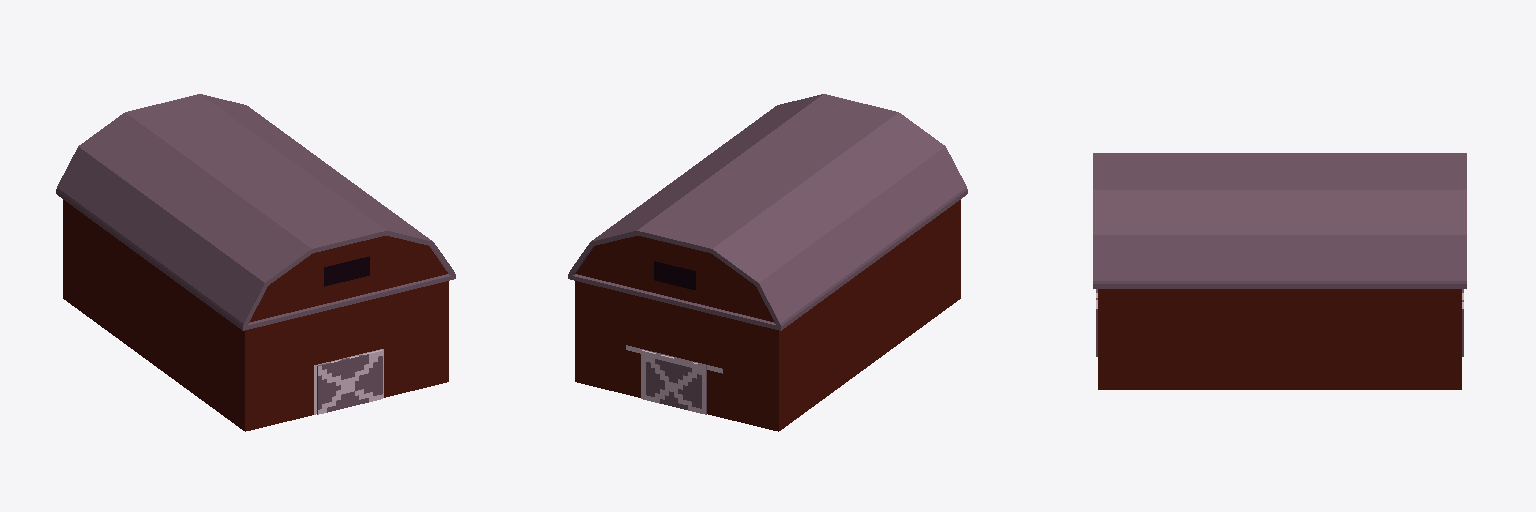
The picture shows the model from 3 angles: view 1: azimuth 30°, elevation 25°; view 2: azimuth 150°, elevation 25°; view 3: azimuth 270°, elevation 25°; orthographic projection.
Parts seen in each view (by area): view 1: building, front door; view 2: building, backdoor; view 3: building.
Part boxes in pixels (bbox=[...]): building: bbox=[56, 94, 455, 431]; front door: bbox=[317, 350, 382, 414]; building: bbox=[568, 94, 967, 431]; backdoor: bbox=[641, 350, 706, 414]; building: bbox=[1093, 153, 1466, 389].
Size of the model in its own units: 2.88 by 2.18 by 4.38.
Materials: 1 (1 with a texture image).